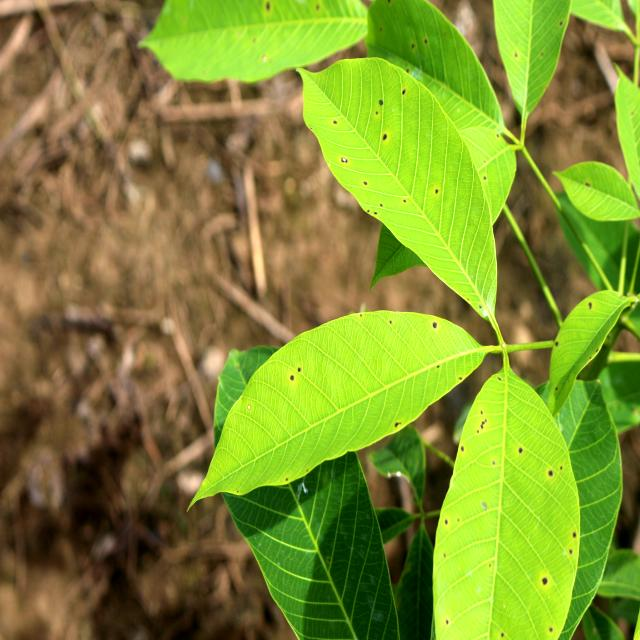Colletotrichum: (341, 157, 348, 163), (247, 404, 251, 410), (383, 134, 387, 140), (379, 99, 383, 105), (433, 322, 437, 328), (290, 375, 294, 380), (542, 578, 546, 583), (549, 471, 553, 476), (363, 181, 368, 185), (402, 90, 406, 95), (519, 448, 522, 452)
